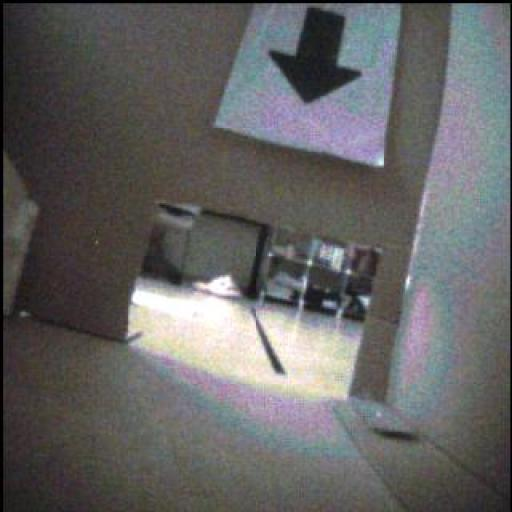arrow: (270, 9, 363, 103)
